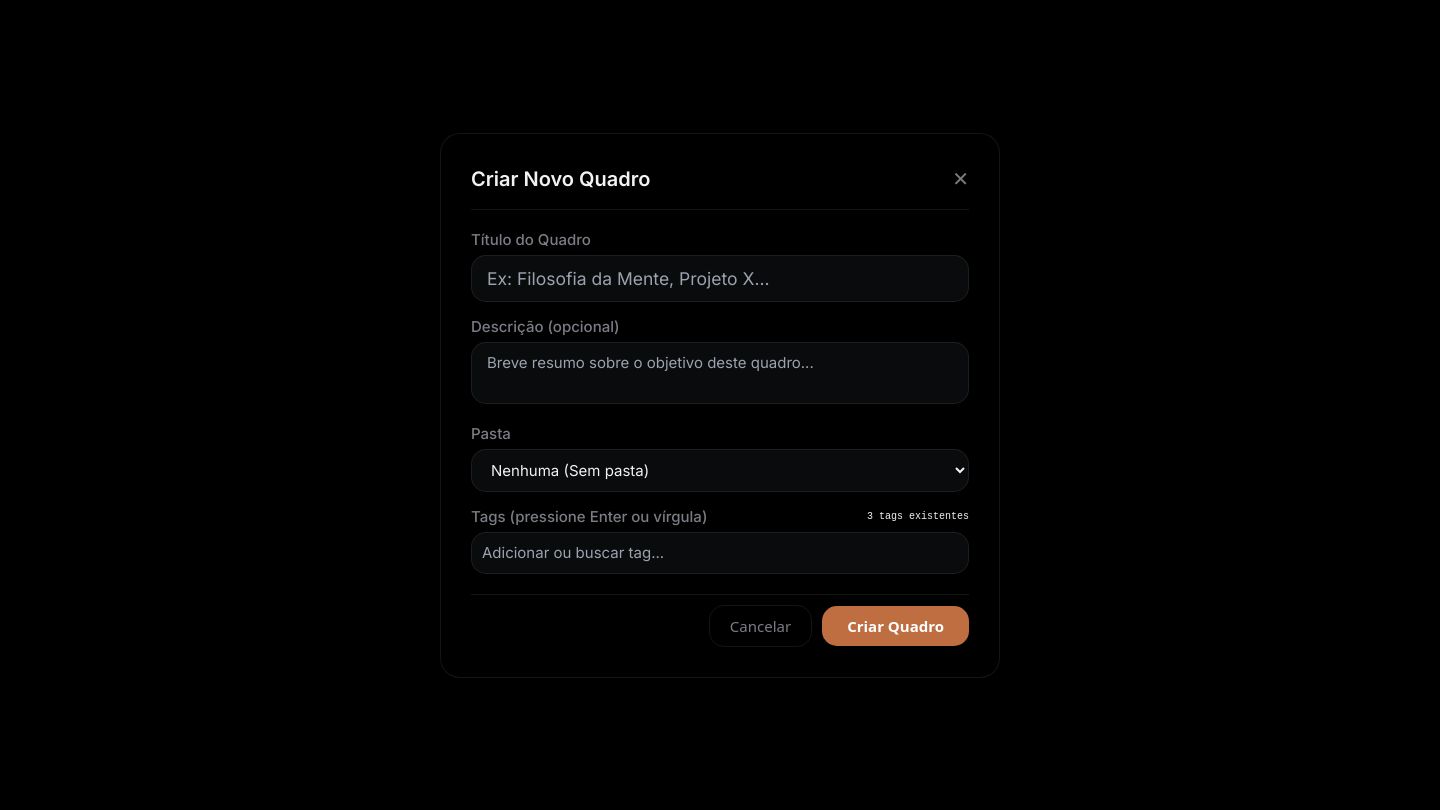
Test case: CanvasActionModals - Busca e Seleção de Tags › suporta navegação pelo teclado (ArrowDown, ArrowUp e Enter) para selecionar tags
This screenshot has width=1440, height=810.
Focus the field with placeholder "Adicionar ou buscar tag..." at point(720, 552), box [482,542,958,562]
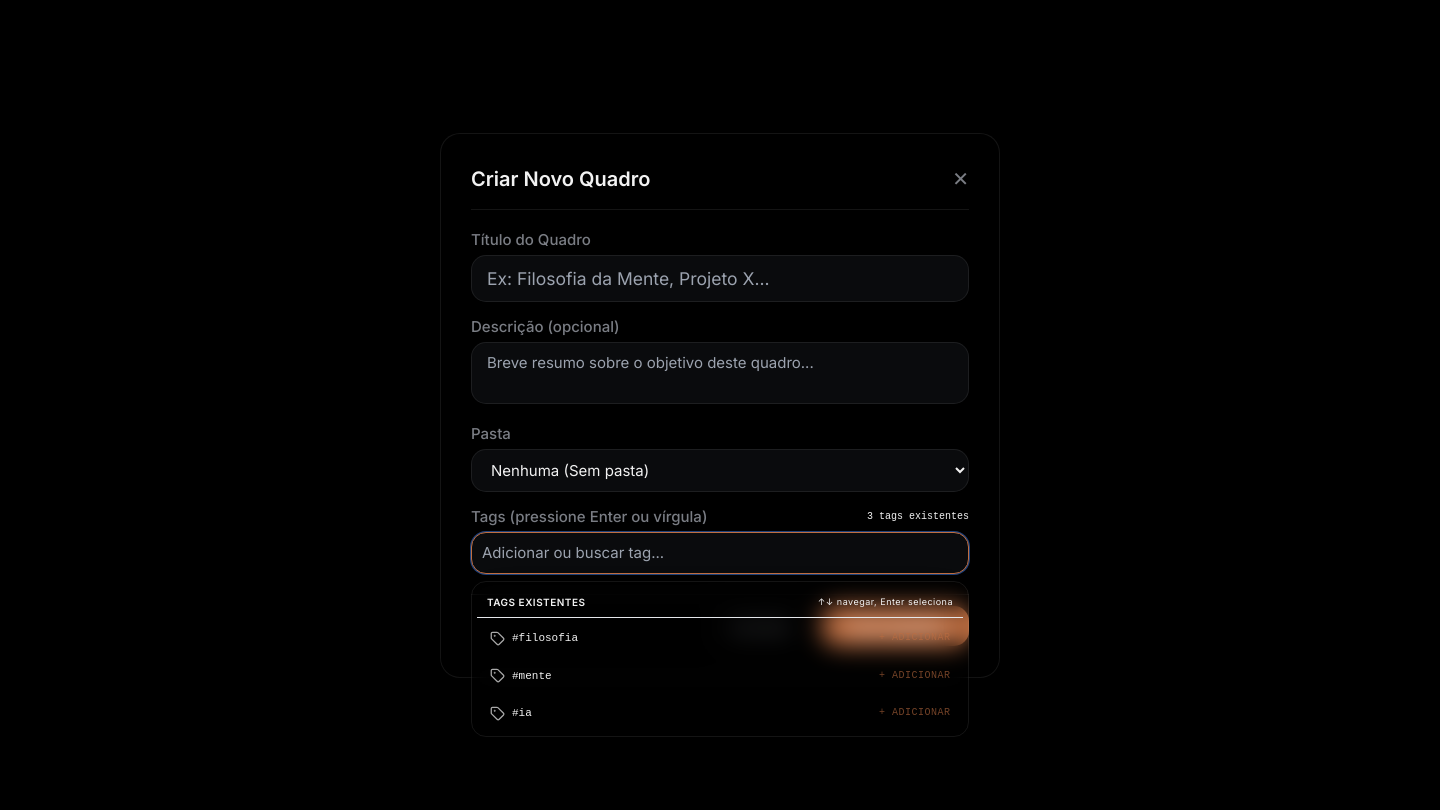
Note: Pressiona ArrowDown para destacar o primeiro item
Press ArrowDown in the field with placeholder "Adicionar ou buscar tag...", box [482,542,958,562]
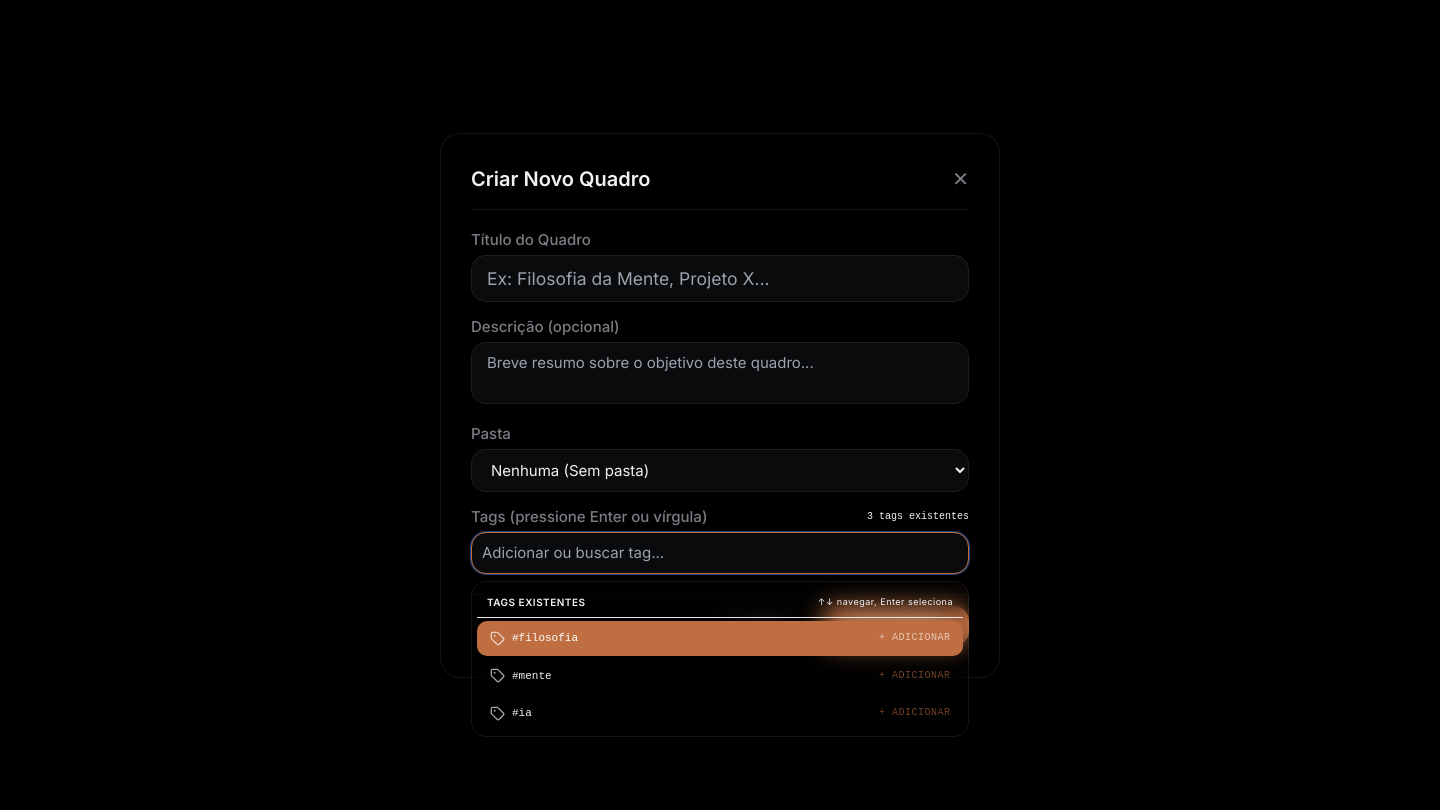
Note: Pressiona ArrowDown novamente para destacar o segundo item ('mente')
Press ArrowDown in the field with placeholder "Adicionar ou buscar tag...", box [482,542,958,562]
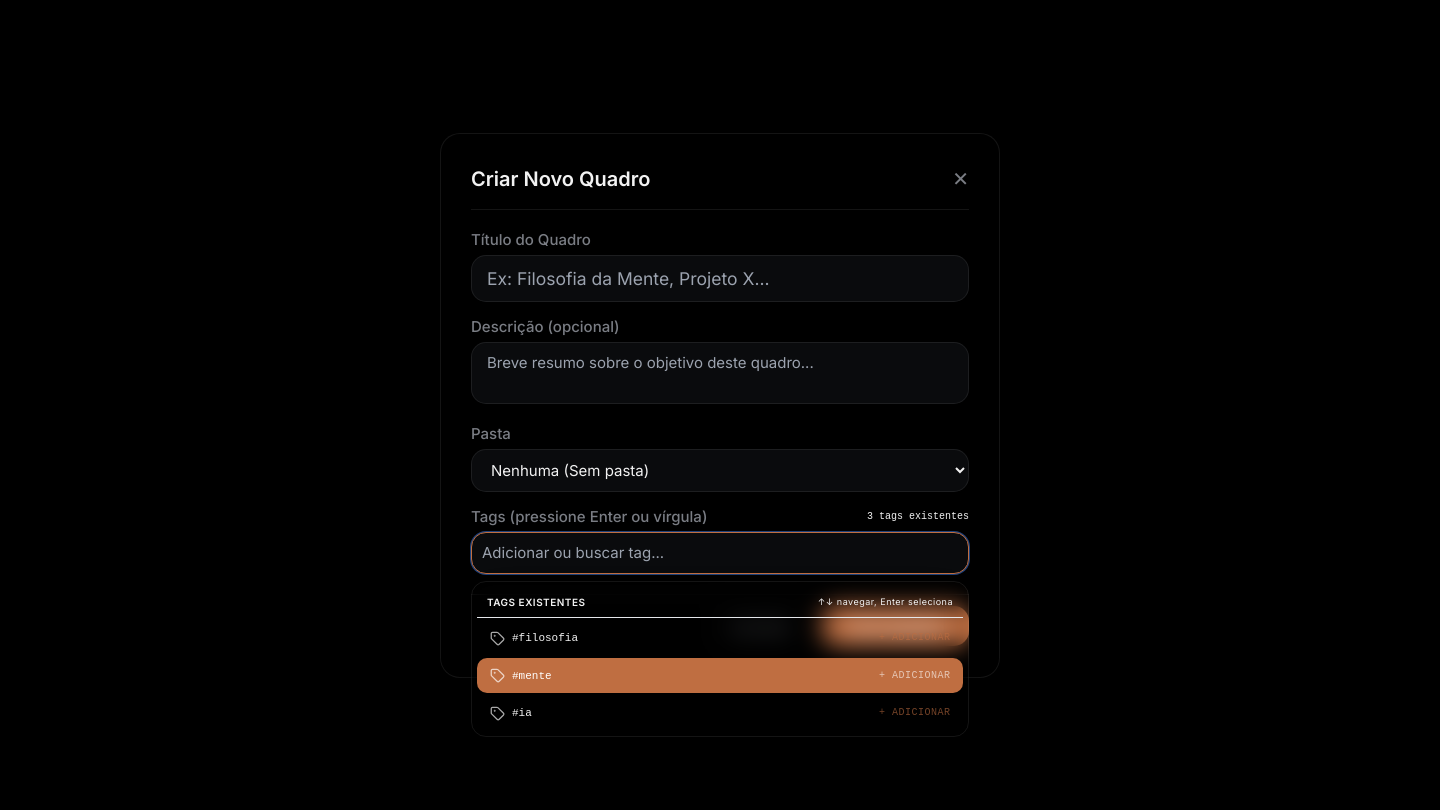
Note: Pressiona Enter para selecionar o item destacado
Press Enter in the field with placeholder "Adicionar ou buscar tag...", box [482,542,958,562]
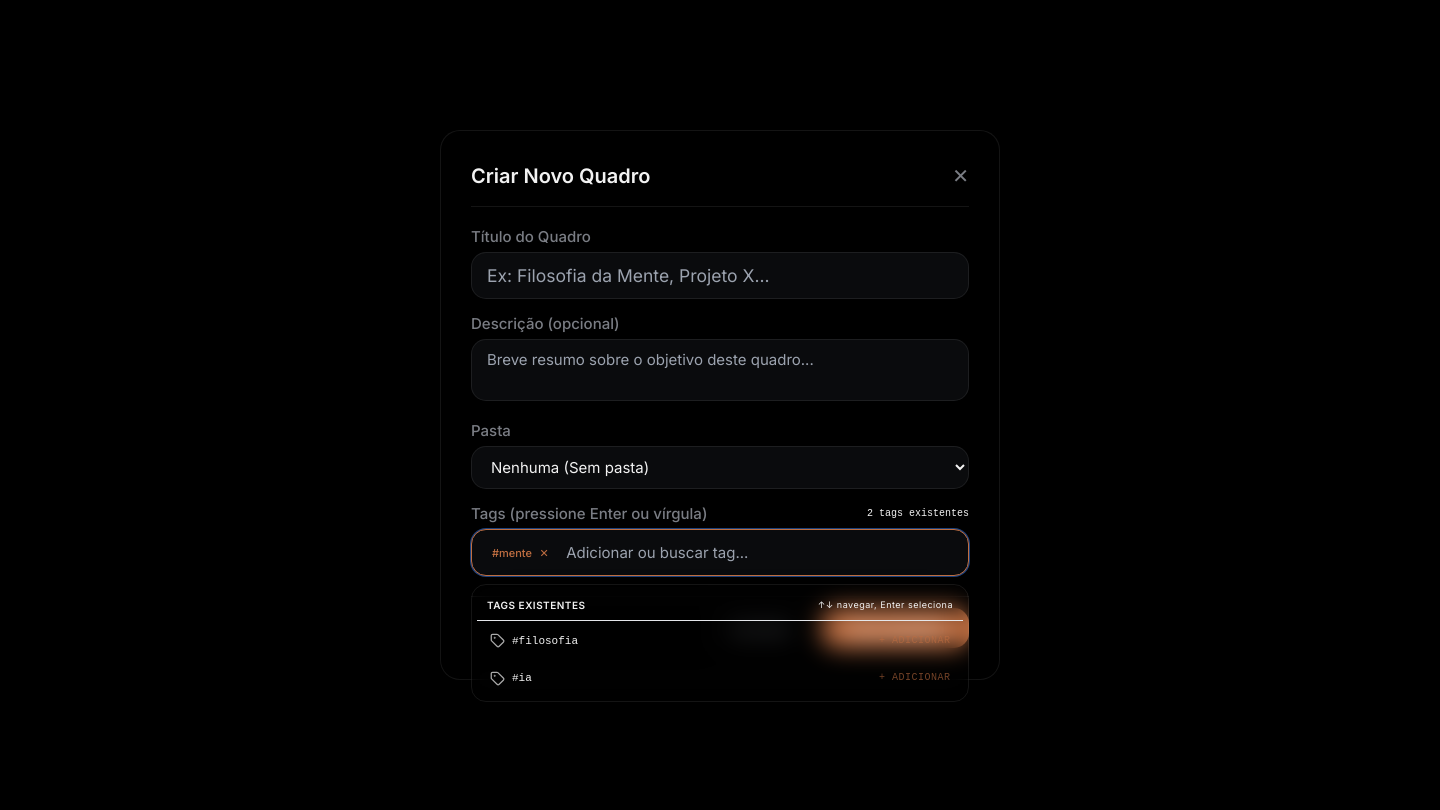
Check: the element showing "#mente ✕" is shown, box [492,542,549,562]
